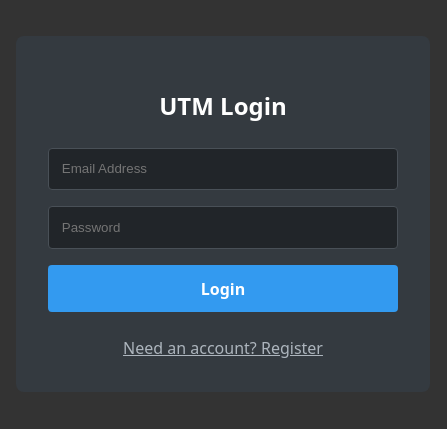
Scenario: AuthModal Component › Should display server error messages on failed login
Type "wrong@utm.com" into the field with placeholder "Email Address".
click(223, 169); type("wrong@utm.com")  # box [48, 148, 398, 190]
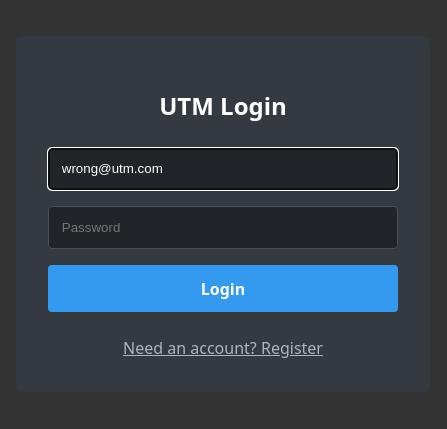
Type "wrongpass" into the password field with placeholder "Password".
click(223, 228); type("wrongpass")  # box [48, 206, 398, 249]
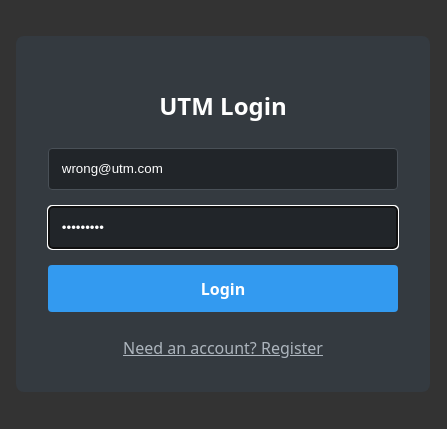
Click the button "Login".
click(223, 289)  # box [48, 265, 398, 312]
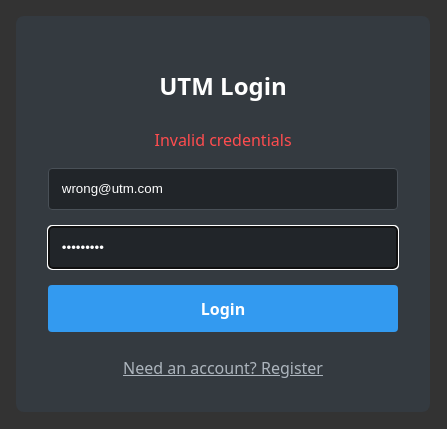
Check: the text "Invalid credentials" is shown, box [154, 129, 292, 151]
